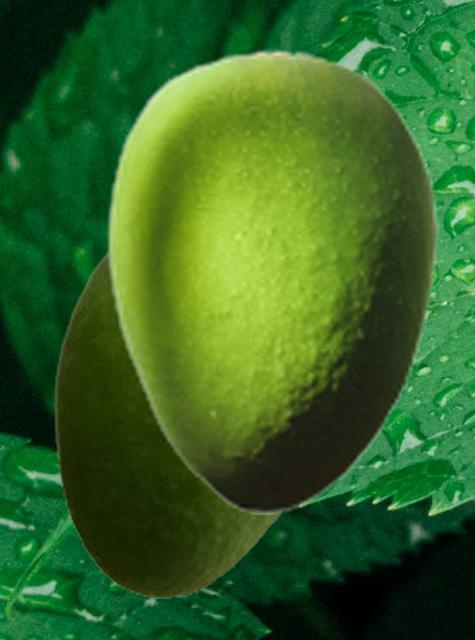green_mango: (105, 48, 438, 513), (53, 250, 286, 597)
